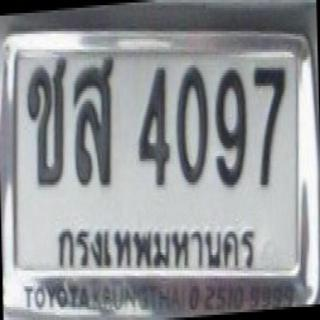A10: (23, 52, 71, 187)
A40: (70, 54, 120, 189)
N00: (172, 59, 211, 185)
N04: (133, 58, 174, 188)
N07: (248, 61, 292, 190)
N09: (212, 60, 248, 187)
P04: (51, 219, 259, 271)
